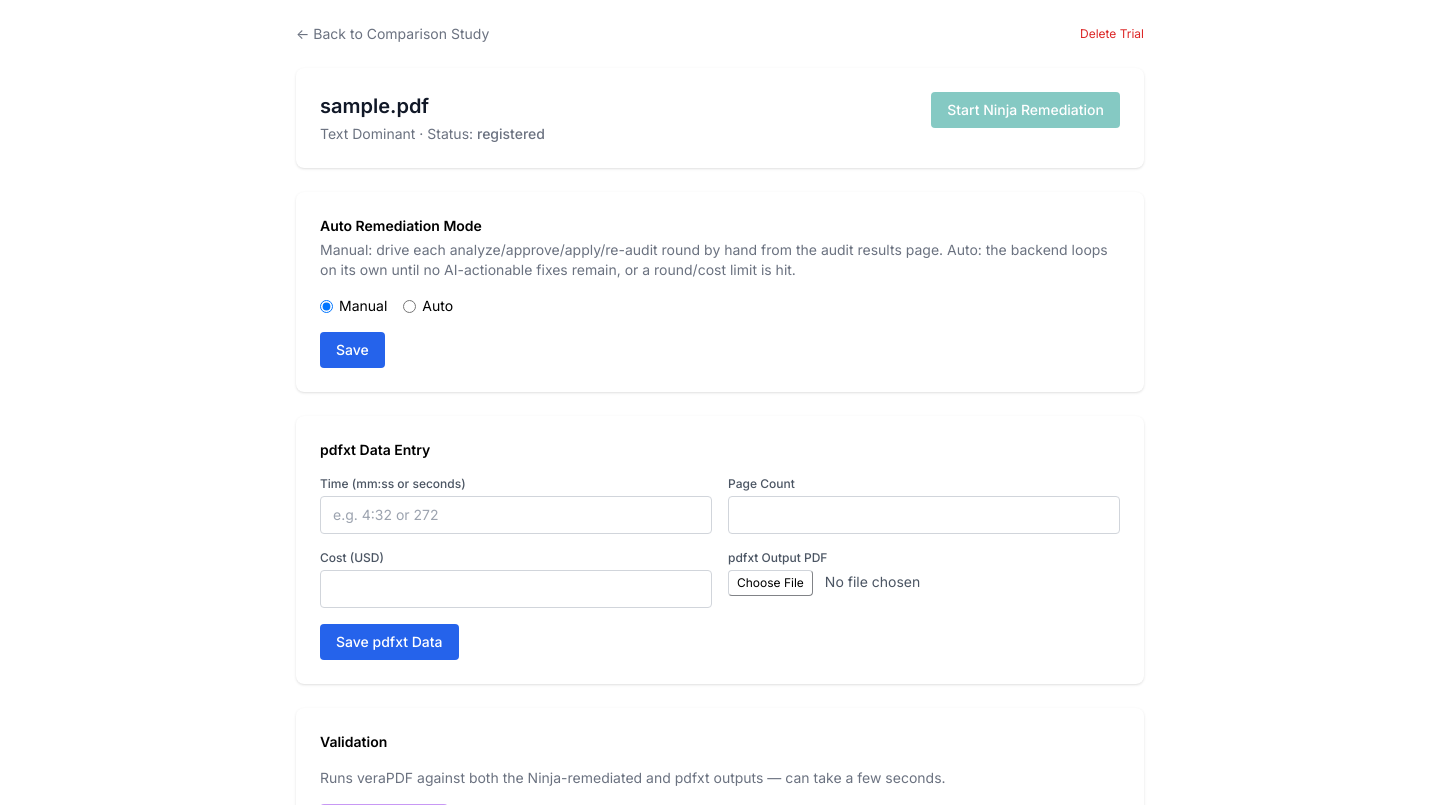
Test case: ComparisonTrialWorkspacePage › Delete Trial › shows an inline error and keeps the dialog open on failure
Click the button "Delete Trial" at (1112, 34), box [1080,26,1144,42]
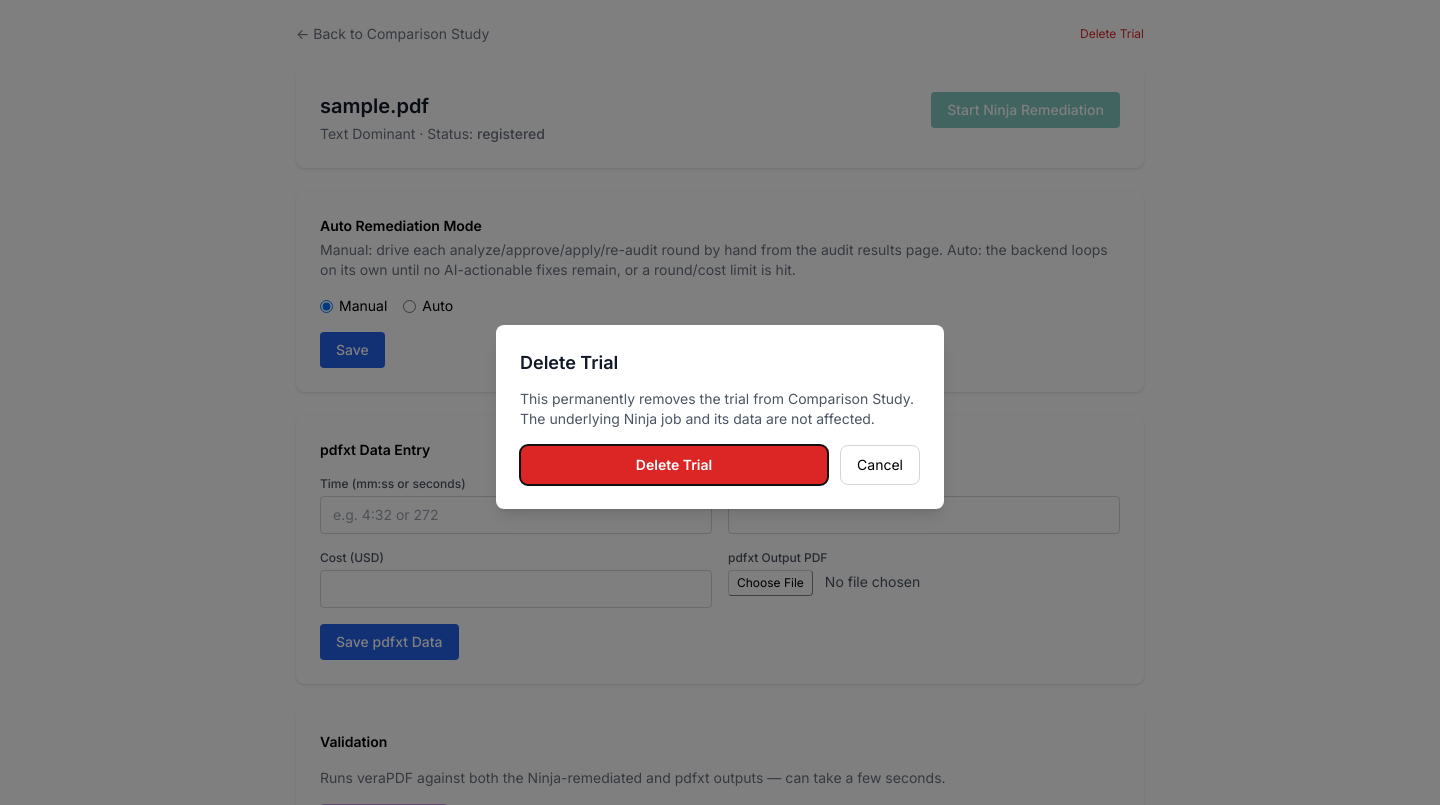
Click the button "Delete Trial" at (674, 465), box [520,445,828,485]
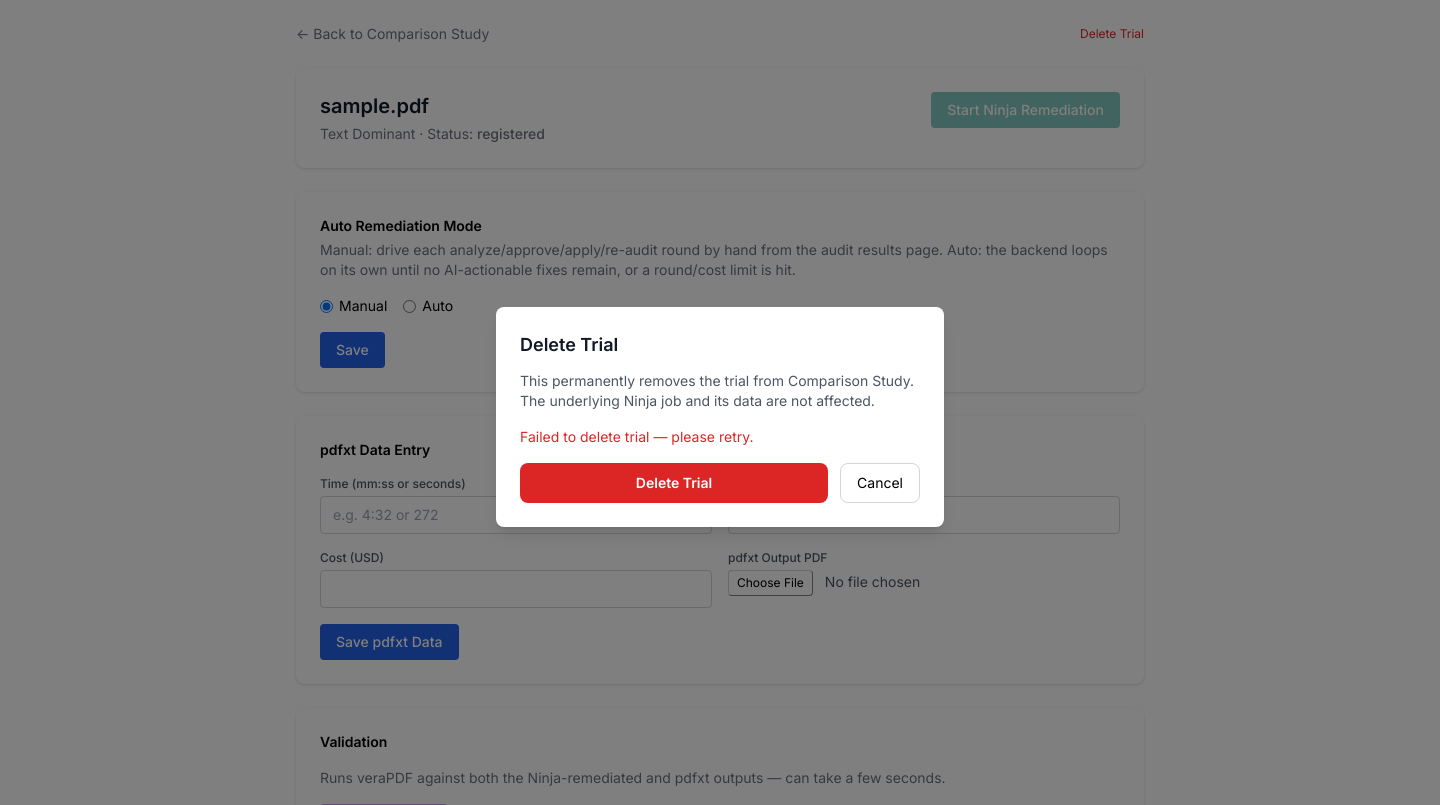
Check: the text "permanently removes the trial from Comparison Study" is shown, box [520,372,914,409]
Check: the text "Failed to delete trial — please retry." is shown, box [520,428,754,445]
